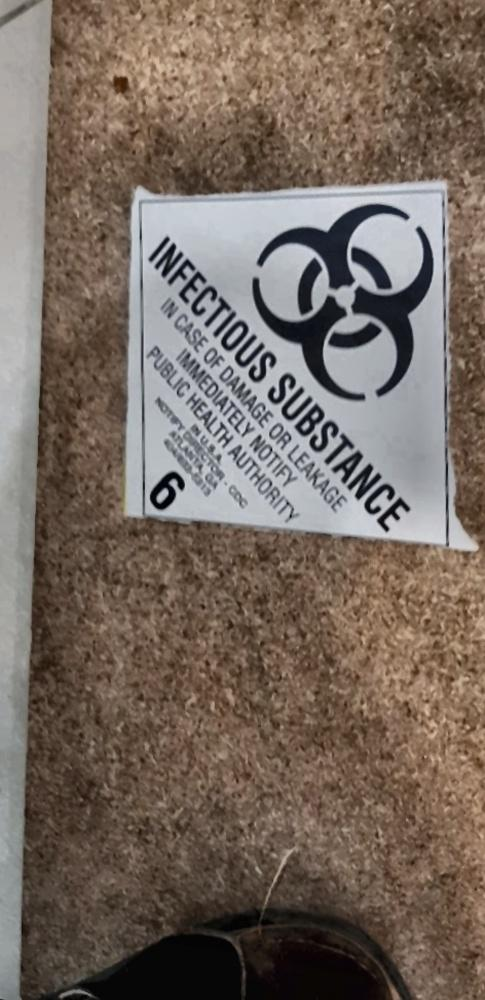infectious-substance: (135, 144, 448, 555)
